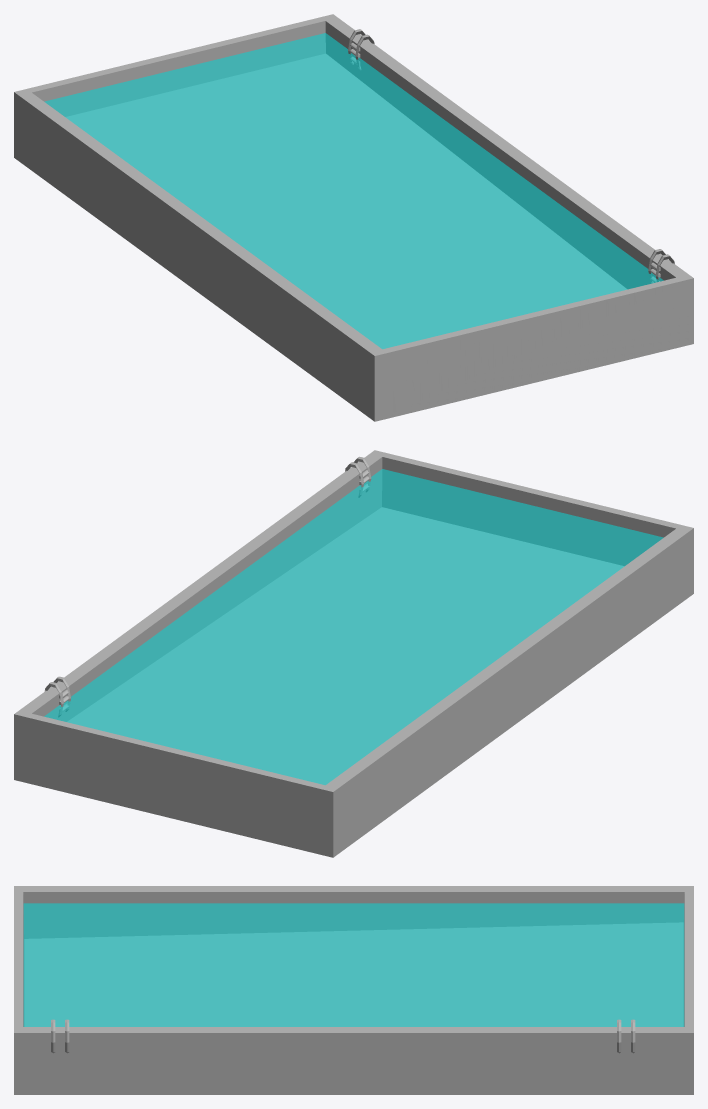
The model's file is Pool.fbx.
3 views of the same model, one above another, from view 1: azimuth 30°, elevation 25°; view 2: azimuth 150°, elevation 25°; view 3: azimuth 270°, elevation 25° (orthographic). The views are drawn at different scales.
Parts seen in each view (by area): view 1: Pool, Water1; view 2: Pool, Water1; view 3: Pool, Water1.
Boxes of the visible parts, x1,y1,x2,y2 form: Pool: [14, 14, 693, 421]; Water1: [44, 33, 663, 348]; Pool: [14, 450, 693, 857]; Water1: [44, 469, 663, 784]; Pool: [14, 886, 693, 1094]; Water1: [23, 903, 684, 1026].
Size of the model in its own units: 271 by 60.25 by 526.
